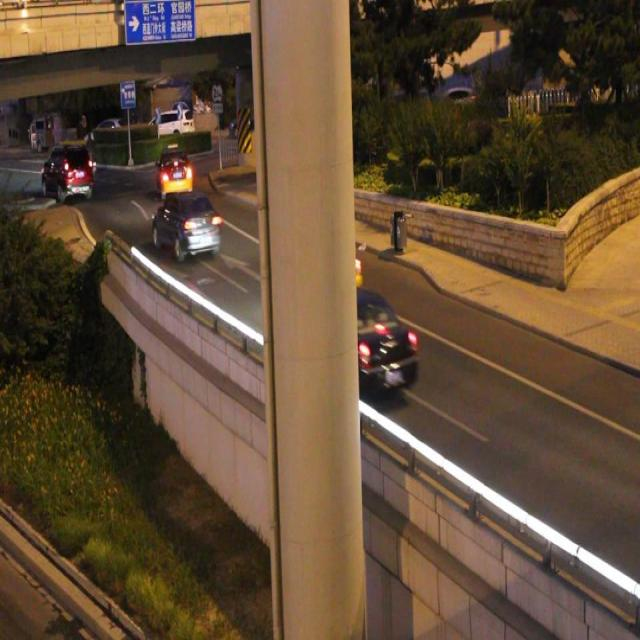car: (285, 282, 418, 399), (266, 220, 362, 312), (151, 190, 222, 262), (154, 143, 192, 198)
